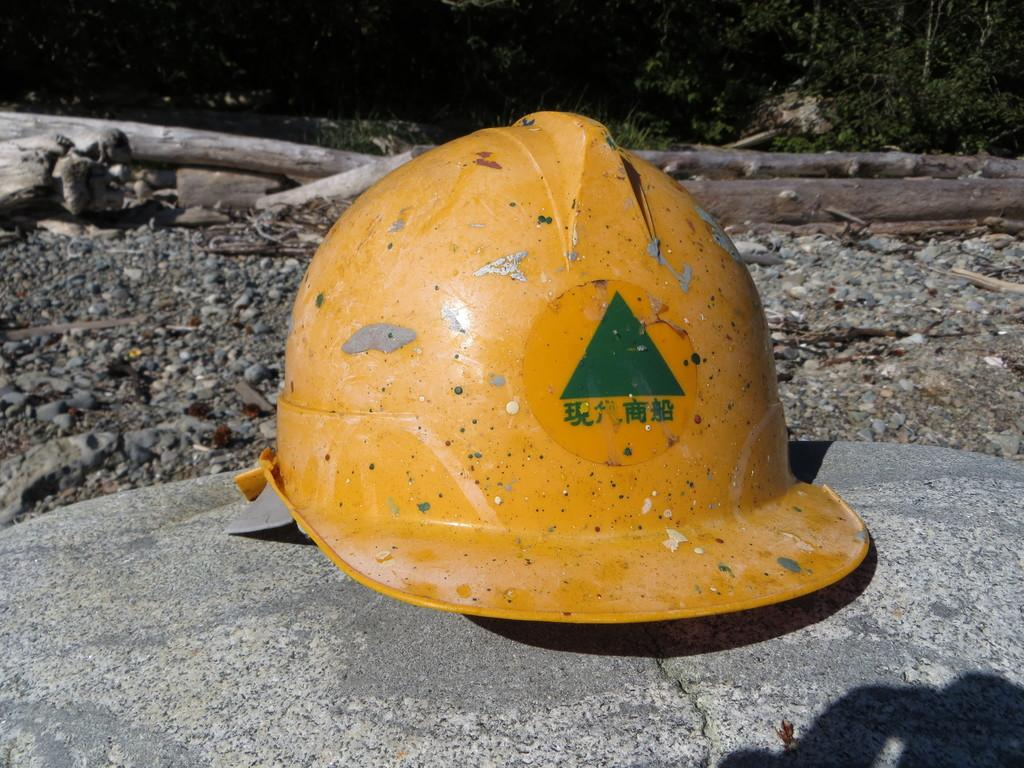Hat: (237, 112, 869, 624)
